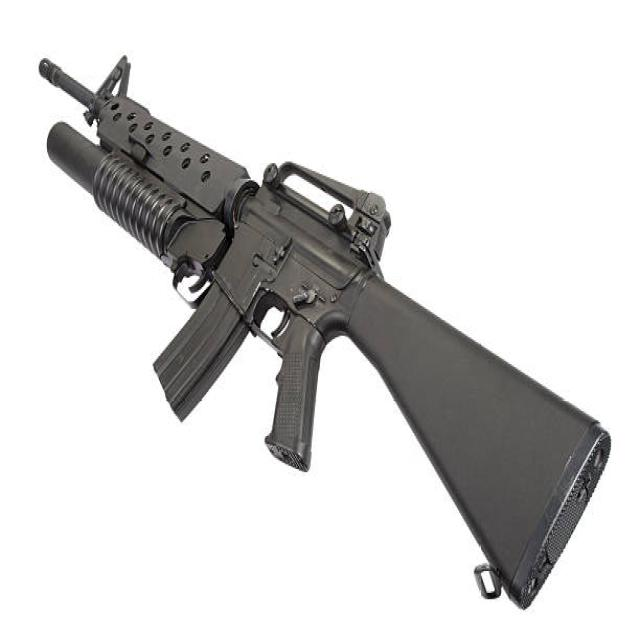rifle: (38, 31, 619, 622)
